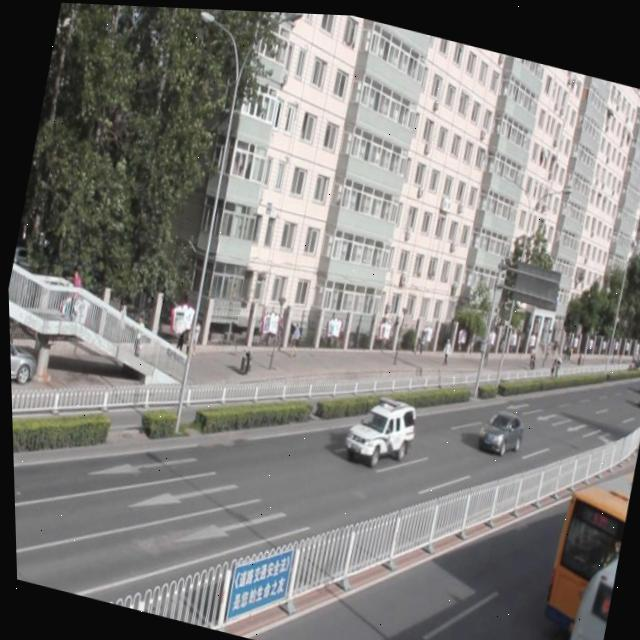car: (338, 384, 416, 464), (472, 400, 523, 450)
van: (534, 441, 637, 630), (537, 539, 617, 640)
